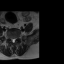CCS_normal: (13, 37, 14, 43)
LFS_stenosis: (15, 36, 17, 40)
LLS_normal: (14, 37, 15, 42)
RFS_severe_stenosis: (9, 36, 11, 40)
RLS_normal: (11, 37, 13, 43)
